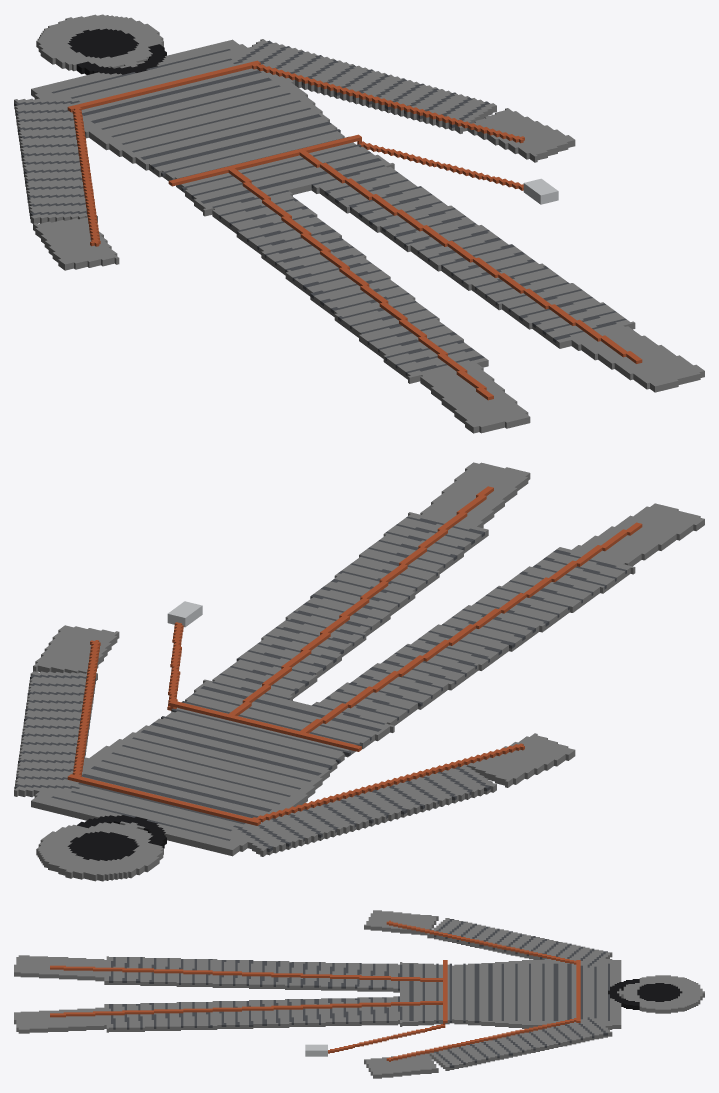
Rendered from shark_suit_faraday.glb.
The picture shows the model from 3 angles, top to bottom: view 1: azimuth 30°, elevation 25°; view 2: azimuth 150°, elevation 25°; view 3: azimuth 270°, elevation 25°; orthographic projection. The views are drawn at different scales.
Parts seen in each view (by area): view 1: shark_suit_faraday:compound; view 2: shark_suit_faraday:compound; view 3: shark_suit_faraday:compound.
Part boxes in pixels (box(x1,y1,x2,y2)): shark_suit_faraday:compound: box(14, 14, 704, 433); shark_suit_faraday:compound: box(14, 462, 704, 881); shark_suit_faraday:compound: box(14, 910, 704, 1078).
Size of the model in its own units: 1.03 by 0.018 by 1.84.
